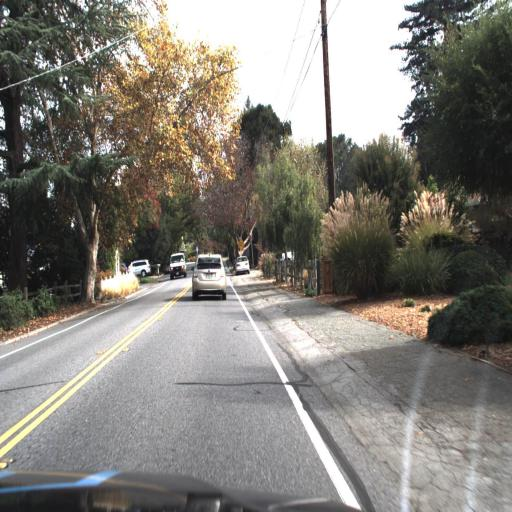car: (190, 248, 227, 300), (122, 258, 155, 279), (166, 251, 188, 281), (233, 254, 254, 276)
